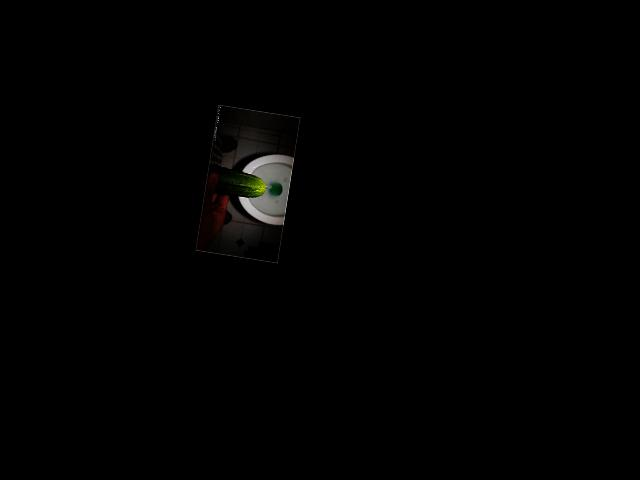cucumber: (204, 163, 267, 200)
